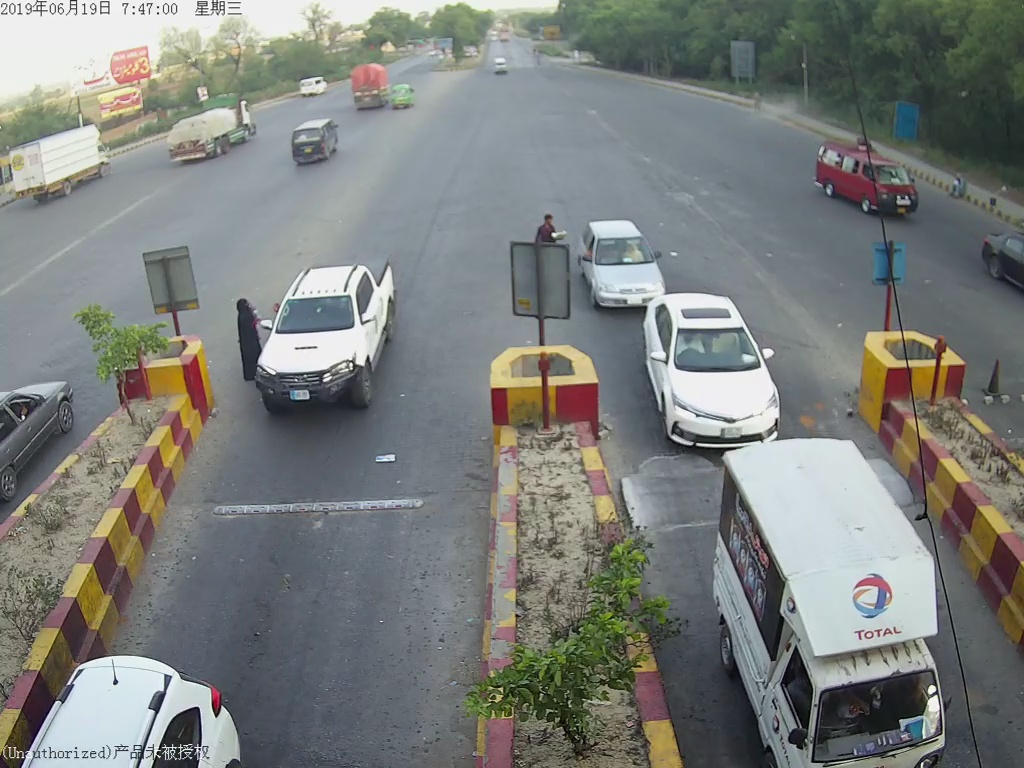Cat-1: (716, 451, 951, 768), (261, 259, 399, 420), (645, 302, 792, 442), (578, 220, 665, 298)
